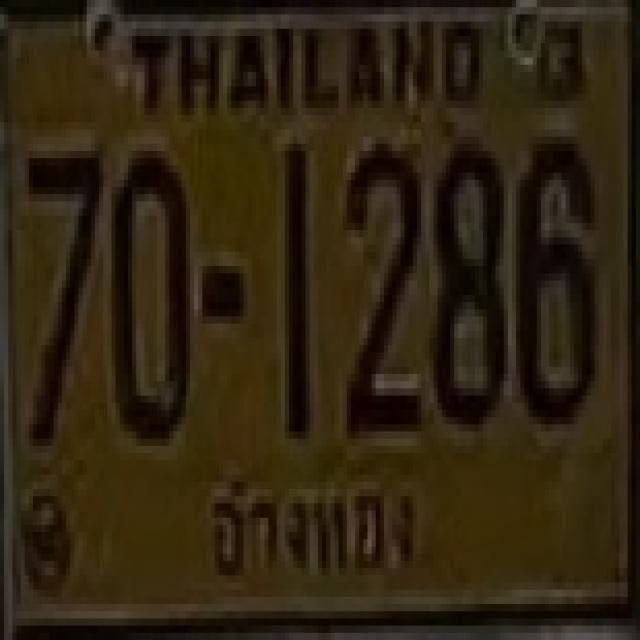0: (111, 147, 186, 435)
1: (282, 136, 308, 432)
2: (343, 137, 417, 424)
6: (514, 130, 593, 417)
7: (25, 144, 99, 438)
8: (430, 140, 500, 421)
ATG: (196, 461, 439, 599)
